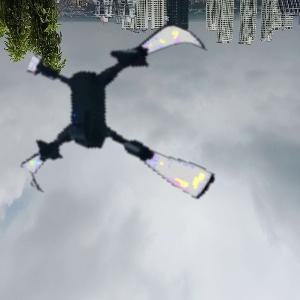drone: (18, 9, 235, 226)
